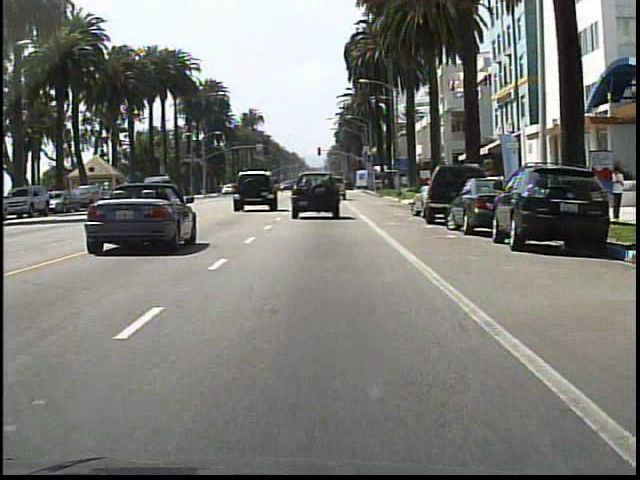person: (609, 162, 626, 222)
